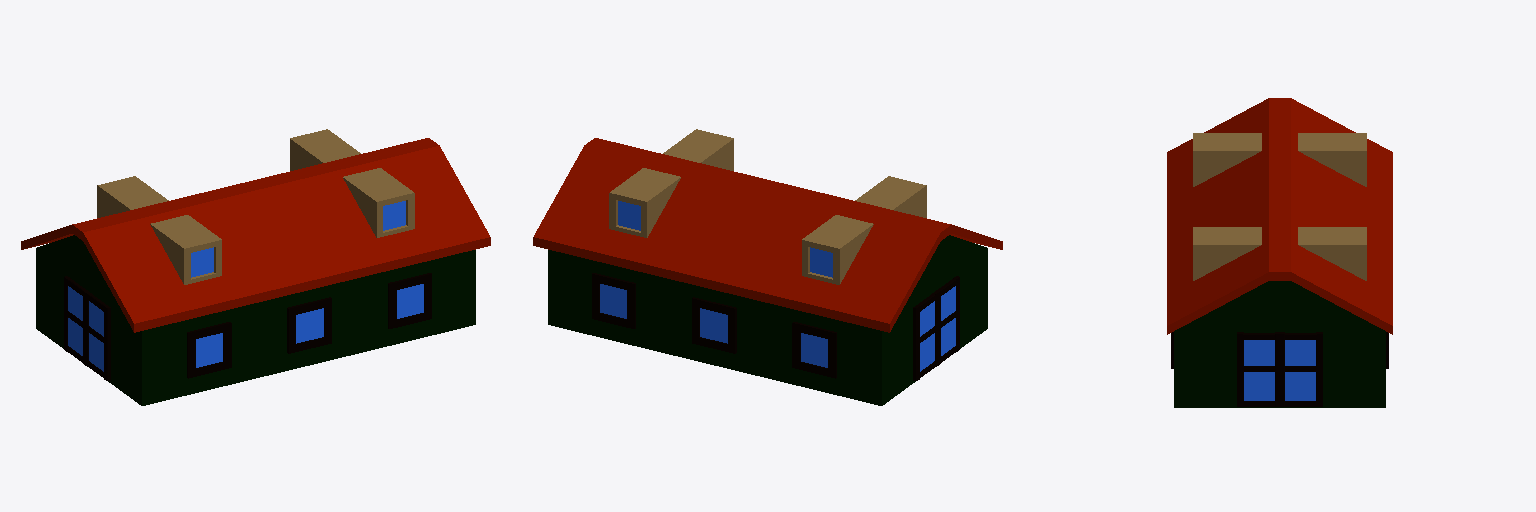
Rendered from Quarter.obj.
The picture shows the model from 3 angles: view 1: azimuth 30°, elevation 25°; view 2: azimuth 150°, elevation 25°; view 3: azimuth 270°, elevation 25°; orthographic projection.
Visible parts, largest first — view 1: Quarter_Cube.033; view 2: Quarter_Cube.033; view 3: Quarter_Cube.033.
Part boxes in pixels (x1,y1,x2,y2): Quarter_Cube.033: (21, 129, 490, 405); Quarter_Cube.033: (533, 129, 1002, 405); Quarter_Cube.033: (1167, 98, 1392, 407).
Bounding box in the file's own units: 19.77 × 7.52 × 10.85.